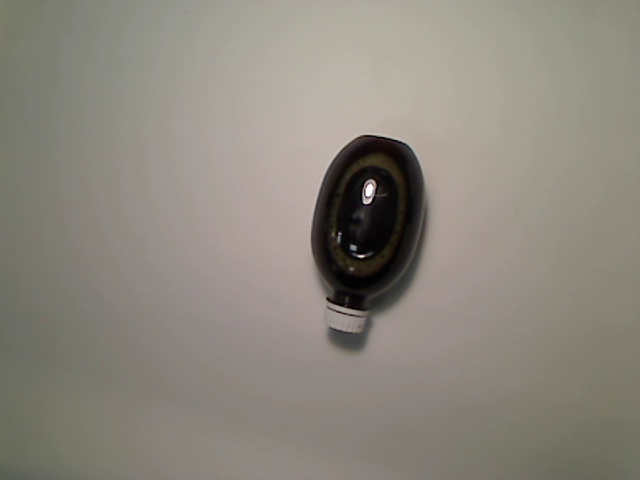plast_bottle: (309, 132, 430, 337)
